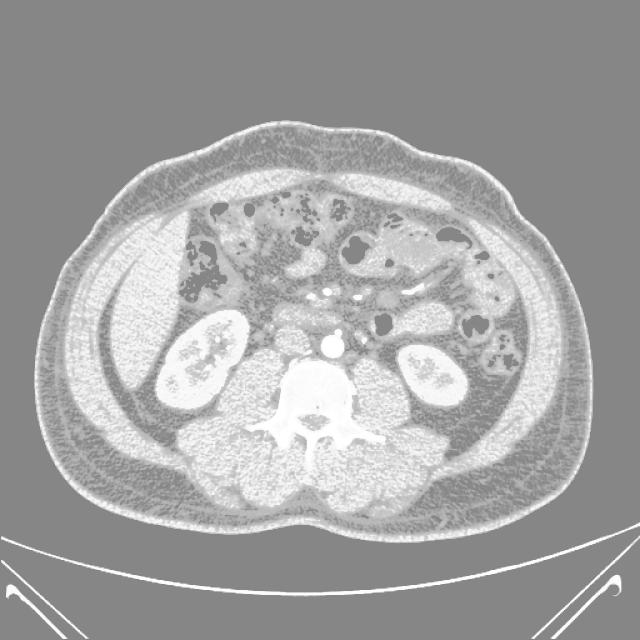NORMAL: (45, 120, 576, 564)
